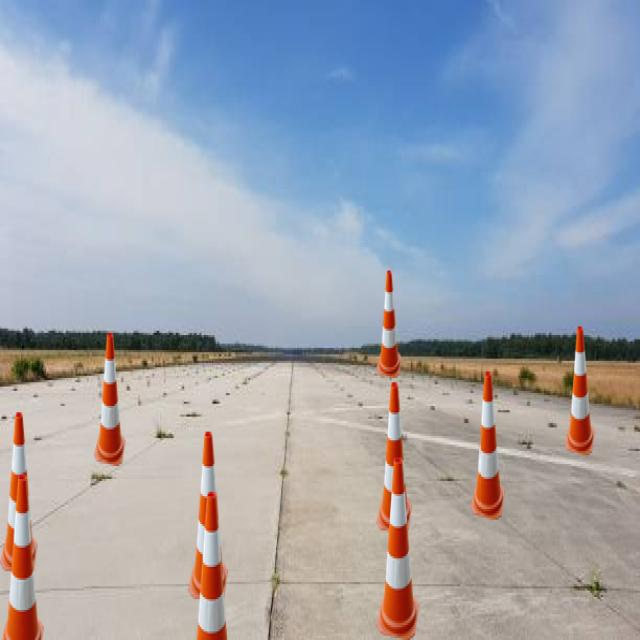cone: (376, 457, 419, 640), (0, 474, 44, 640), (188, 432, 228, 604), (188, 492, 234, 640), (0, 412, 38, 576), (376, 382, 412, 535), (471, 372, 505, 520), (94, 333, 126, 466), (564, 326, 595, 456), (376, 271, 402, 378)
